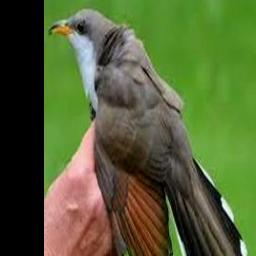Cuckoo: (49, 7, 250, 256)
